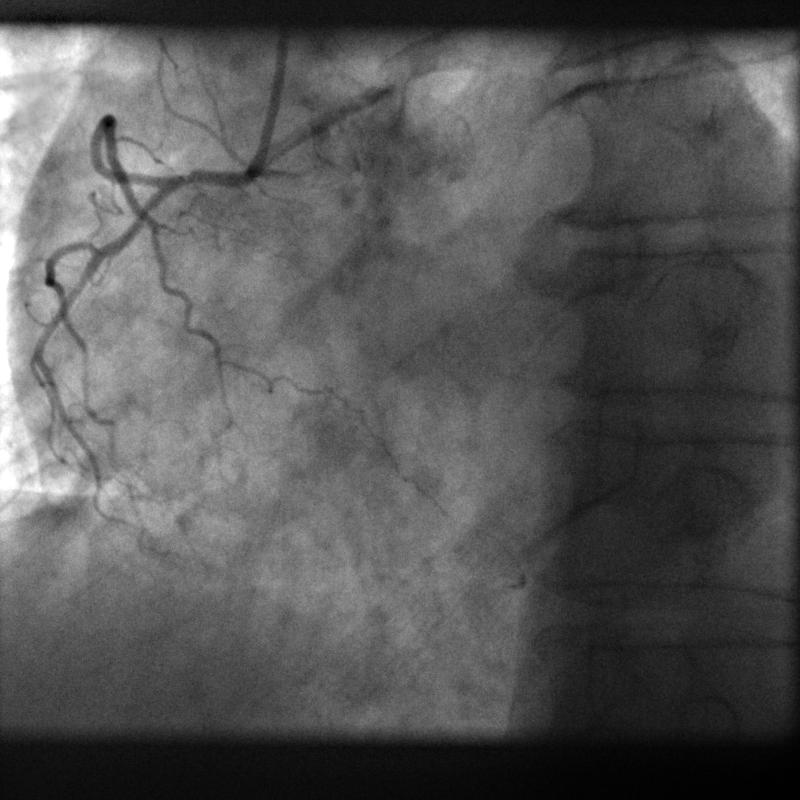Stenosis: (166, 161, 212, 199)
